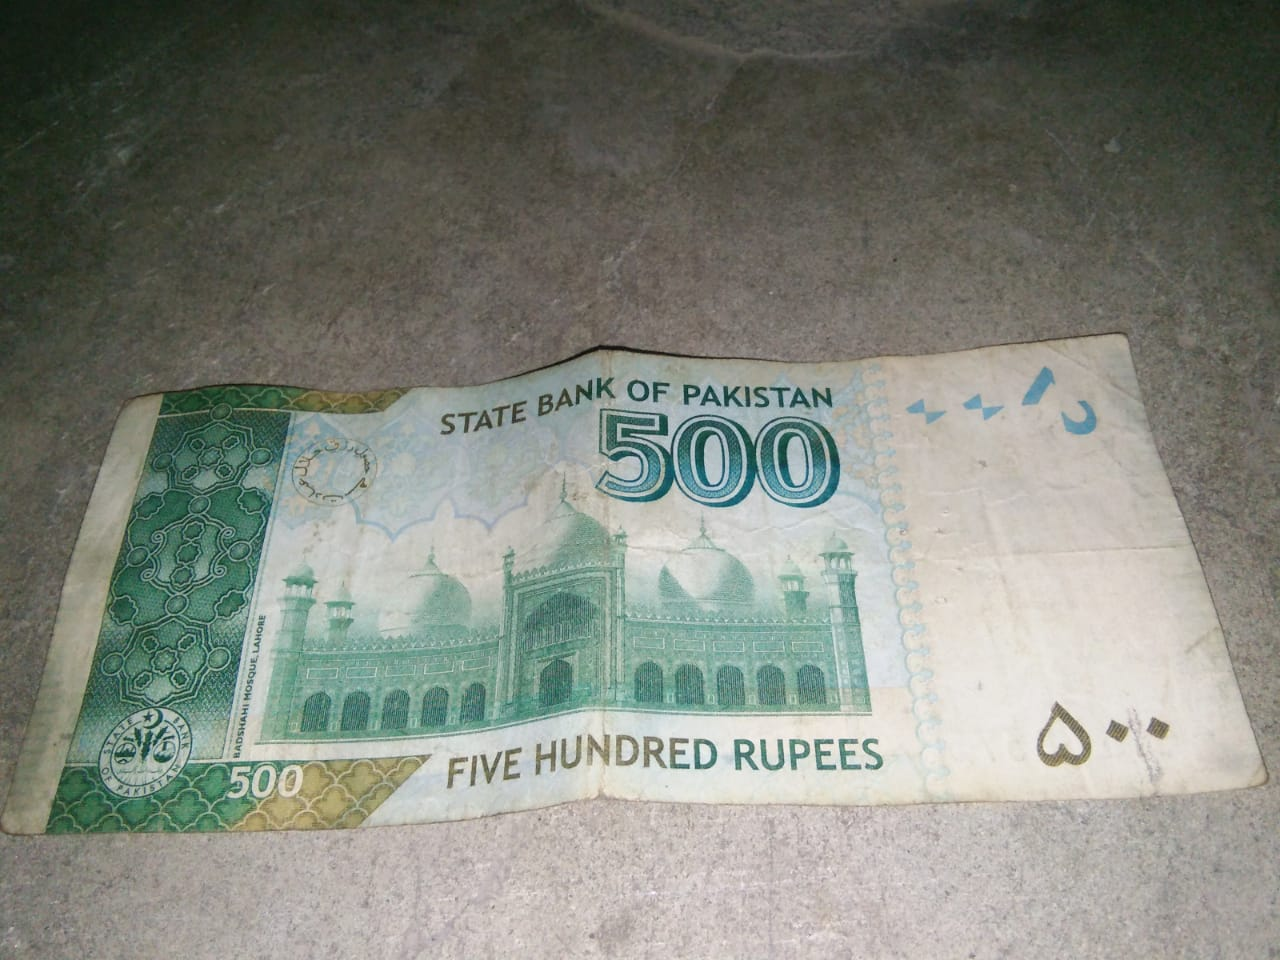500 rupee: (82, 355, 1257, 874)
